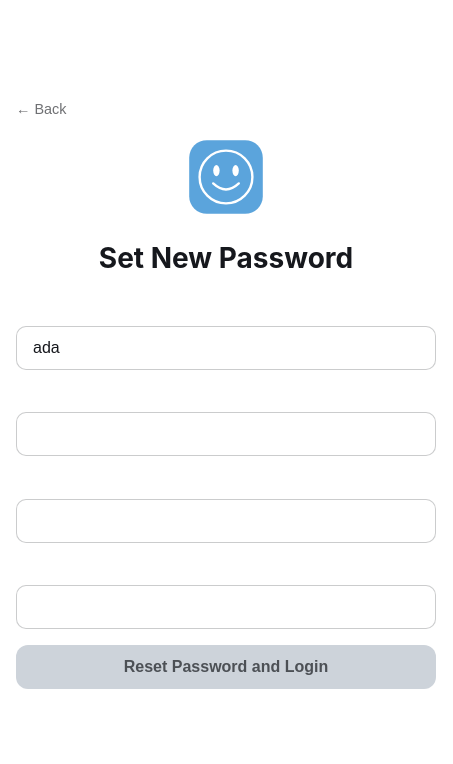
it: shows error banner when reset fails
Step 1. Type "ada@example.com" into the field labelled "Email" → (226, 434), box [16, 412, 436, 456]
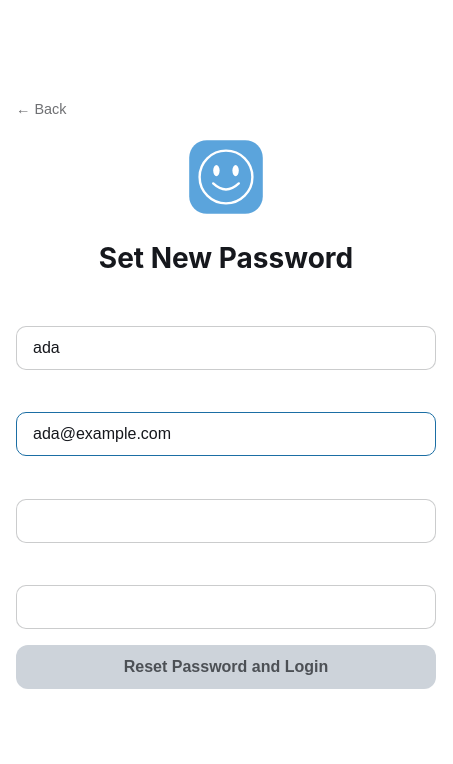
Step 2. Type "NewStrongPass1-" into the password field labelled "New Password" → (226, 521), box [16, 499, 436, 543]
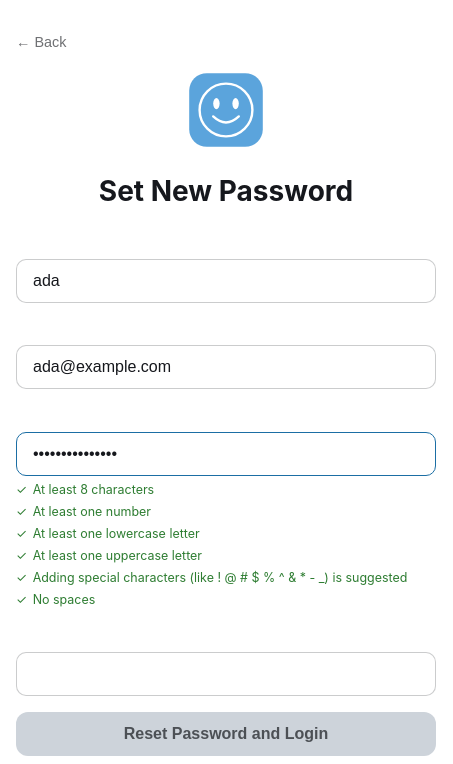
Step 3. Type "NewStrongPass1-" into the password field labelled "Confirm Password" → (226, 674), box [16, 652, 436, 696]
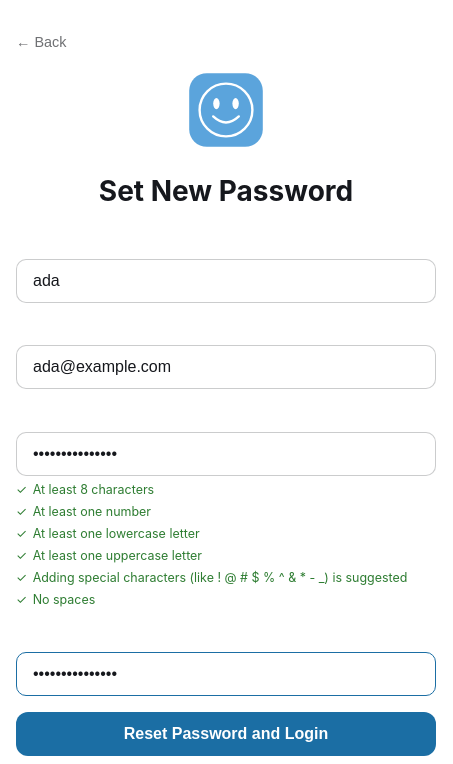
Step 4. Click the button "Reset Password and Login" → (226, 734), box [16, 712, 436, 756]
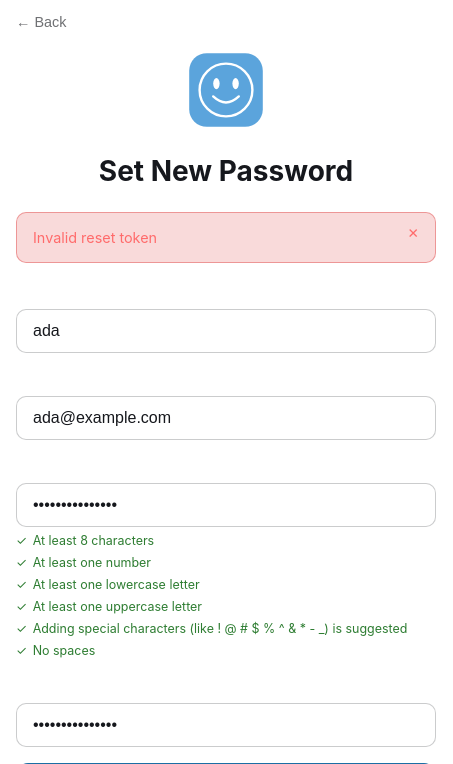
Now the message shows "Invalid reset token", box [33, 229, 157, 246]
